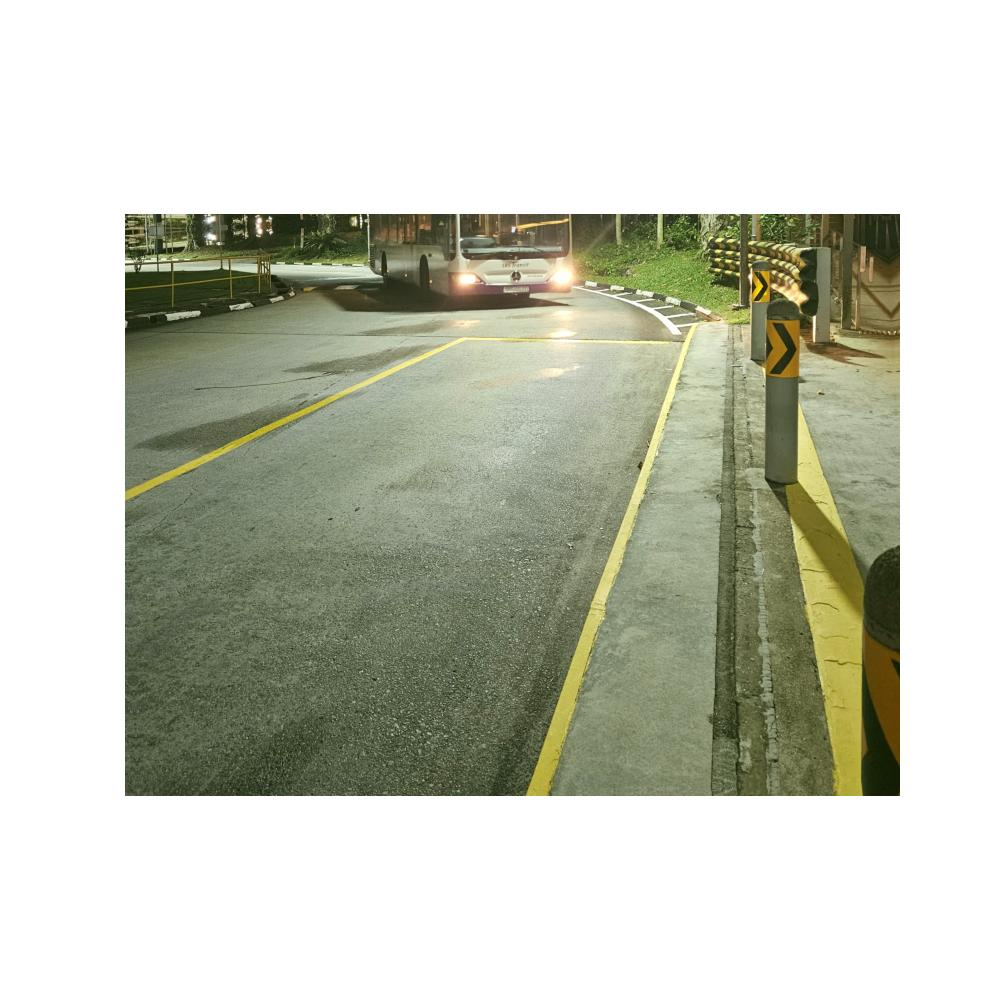bus: (364, 216, 579, 305)
